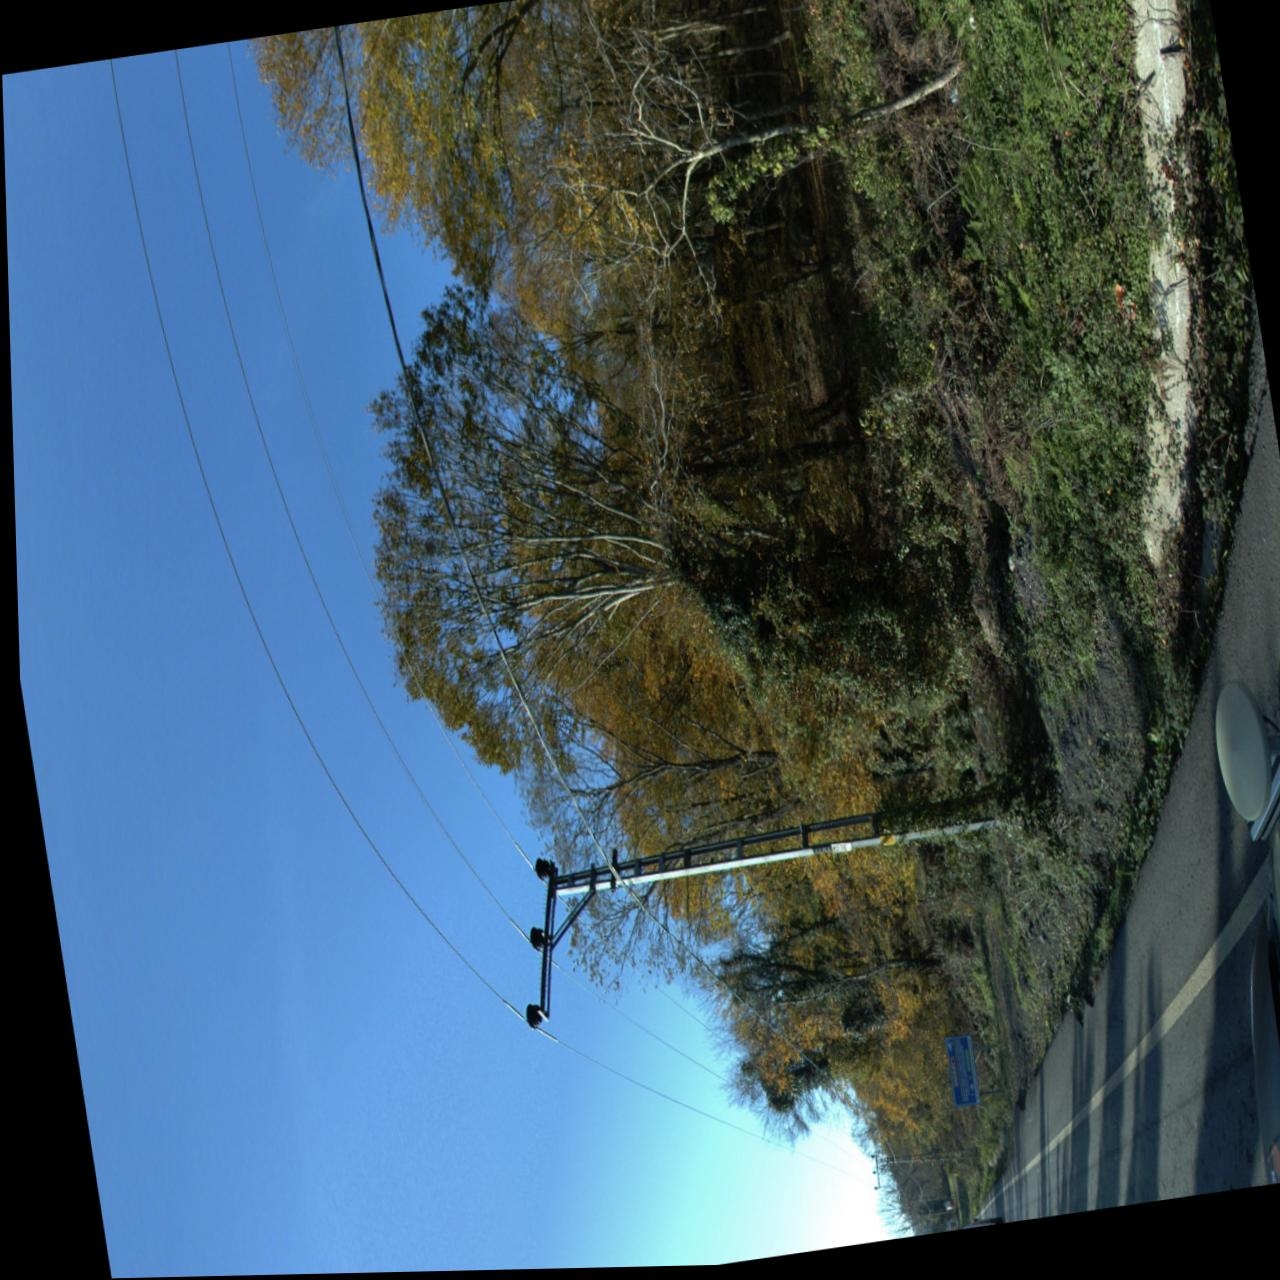Utility Pole Information Plate: (873, 836, 888, 849), (825, 845, 839, 857)
